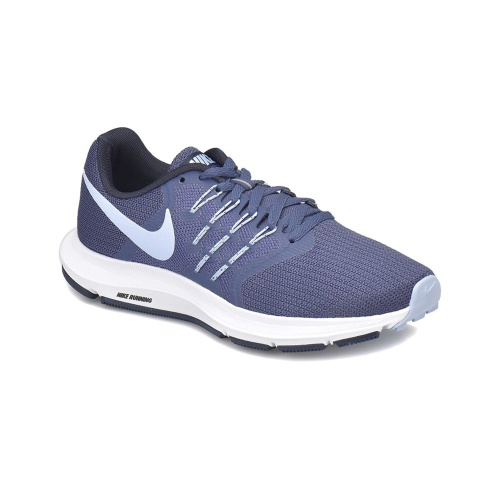nike: (83, 175, 179, 265)
